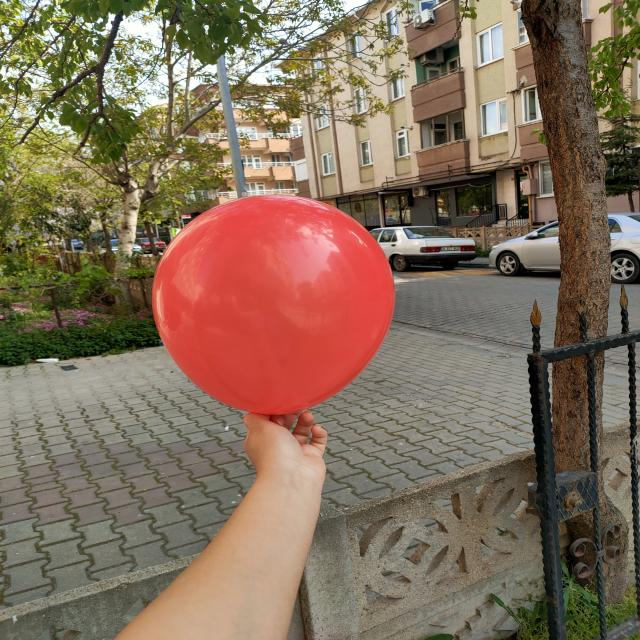red: (151, 194, 394, 415)
